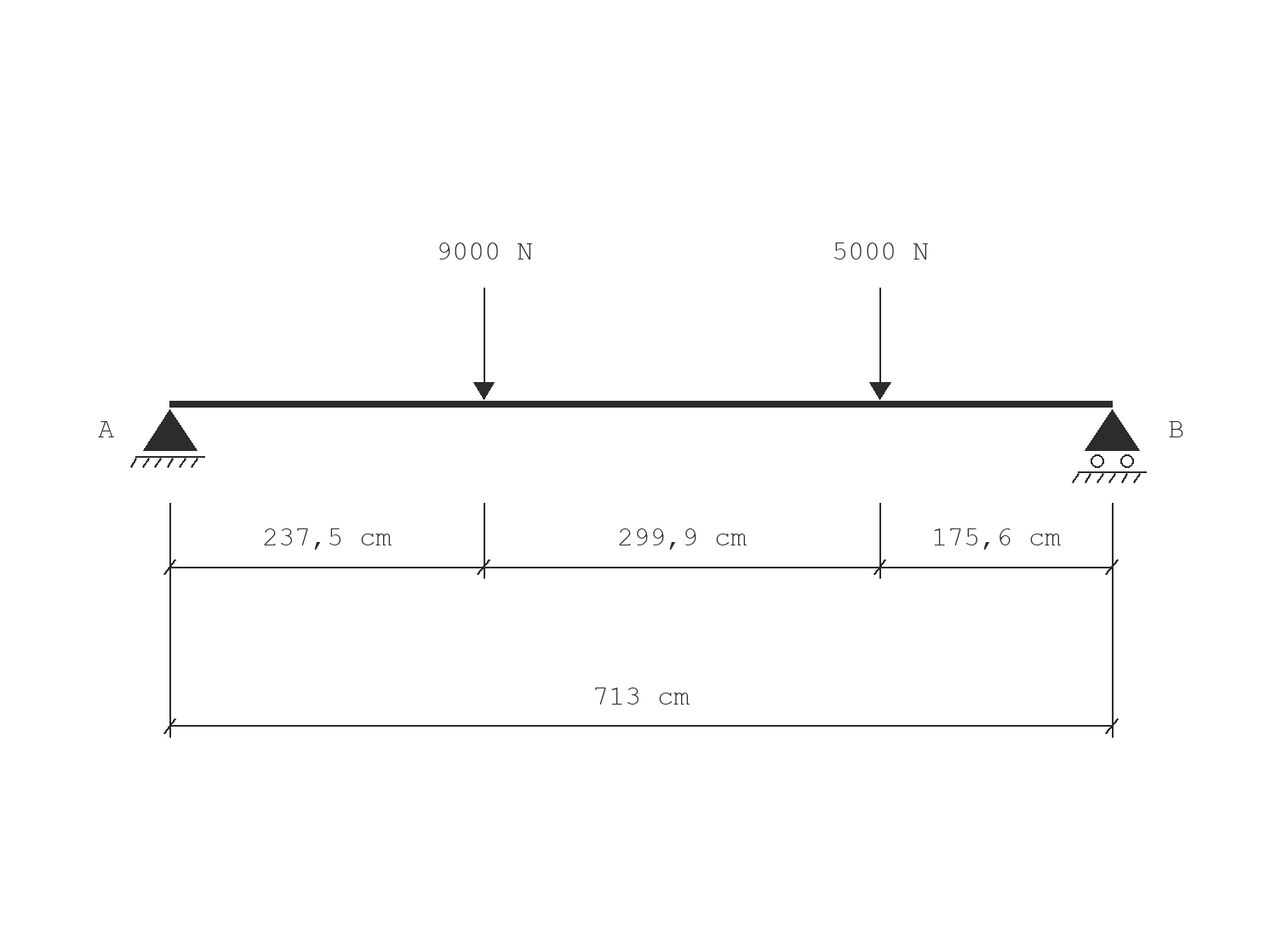pin_support: (130, 409, 205, 468)
point_load: (473, 288, 495, 400), (869, 288, 891, 400)
roller_support: (1072, 409, 1147, 483)
